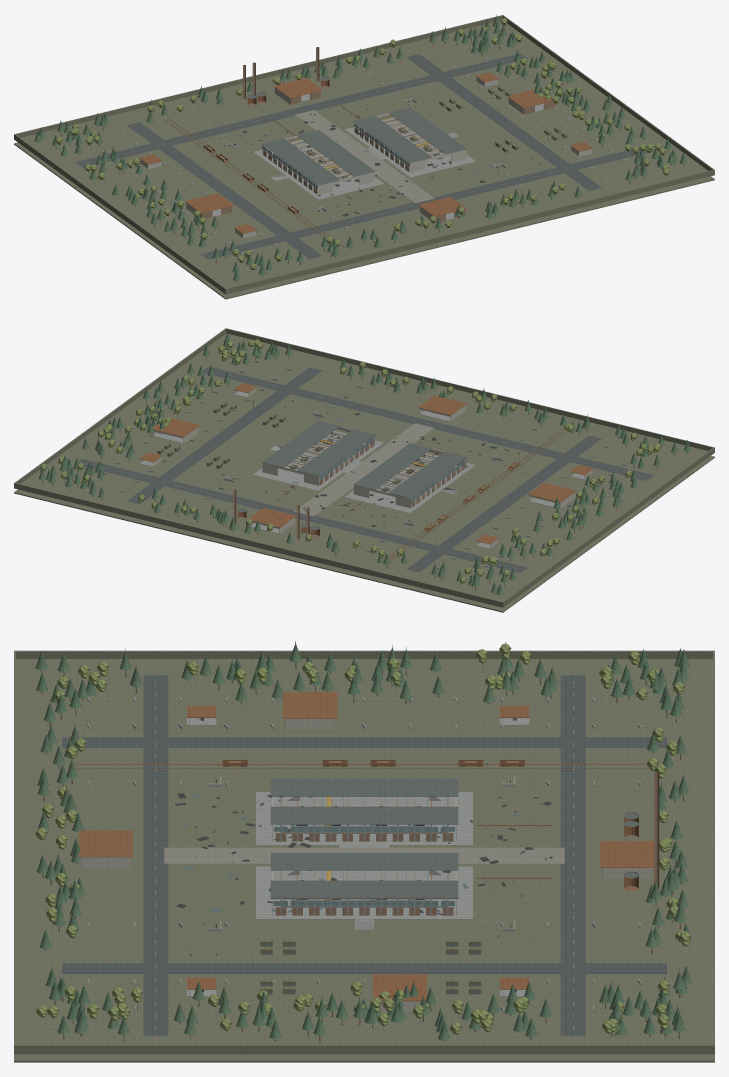
The picture shows the model from 3 angles, top to bottom: view 1: azimuth 30°, elevation 25°; view 2: azimuth 150°, elevation 25°; view 3: azimuth 270°, elevation 25°; orthographic projection. The views are drawn at different scales.
Visible parts, largest first — view 1: render-earth--4-0, render-earth-3-0, render-earth-0-1, render-earth-0--2, render-earth-0-0, render-asphalt-0--4, render-asphalt-0-3, render-earth-0-3, render-earth-0--4, render-asphalt--4-0, render-asphalt-4-0, render-gravel-0-0 (+13 smaller); view 2: render-earth--4-0, render-earth-3-0, render-earth-0--2, render-earth-0-1, render-earth-0-0, render-asphalt-0-3, render-asphalt-0--4, render-earth-0--4, render-earth-0-3, render-asphalt--4-0, render-asphalt-4-0, render-gravel-0-0 (+12 smaller); view 3: render-earth--4-0, render-earth-3-0, render-earth-0-1, render-earth-0--2, render-asphalt-0-3, render-asphalt-0--4, render-earth-4-0, render-asphalt-4-0, render-asphalt--4-0, render-earth-0-0, render-earth--5-0, render-concrete-1-0 (+23 smaller).
Boxes of the visible parts, left/top/right/bottom form: render-earth--4-0: left=14, top=102, right=378, bottom=294; render-earth-3-0: left=351, top=20, right=714, bottom=212; render-earth-0-1: left=280, top=140, right=561, bottom=256; render-earth-0--2: left=168, top=58, right=448, bottom=173; render-earth-0-0: left=14, top=142, right=714, bottom=299; render-asphalt-0--4: left=75, top=53, right=527, bottom=167; render-asphalt-0-3: left=201, top=145, right=653, bottom=259; render-earth-0-3: left=226, top=169, right=714, bottom=293; render-earth-0--4: left=14, top=15, right=503, bottom=137; render-asphalt--4-0: left=127, top=122, right=321, bottom=259; render-asphalt-4-0: left=406, top=54, right=601, bottom=190; render-gravel-0-0: left=294, top=110, right=434, bottom=203; render-earth--4-0: left=350, top=415, right=714, bottom=607; render-earth-3-0: left=14, top=333, right=377, bottom=525; render-earth-0--2: left=167, top=453, right=448, bottom=570; render-earth-0-1: left=281, top=370, right=560, bottom=486; render-earth-0-0: left=14, top=455, right=714, bottom=612; render-asphalt-0-3: left=203, top=366, right=653, bottom=480; render-asphalt-0--4: left=78, top=459, right=527, bottom=572; render-earth-0--4: left=14, top=483, right=502, bottom=606; render-earth-0-3: left=225, top=328, right=714, bottom=450; render-asphalt--4-0: left=406, top=435, right=601, bottom=572; render-asphalt-4-0: left=127, top=367, right=322, bottom=504; render-gravel-0-0: left=294, top=423, right=434, bottom=516; render-earth--4-0: left=16, top=659, right=712, bottom=781; render-earth-3-0: left=14, top=929, right=714, bottom=1054; render-earth-0-1: left=16, top=781, right=339, bottom=929; render-earth-0--2: left=389, top=781, right=712, bottom=929; render-asphalt-0-3: left=143, top=675, right=168, bottom=1035; render-asphalt-0--4: left=560, top=675, right=585, bottom=1035; render-earth-4-0: left=14, top=1044, right=714, bottom=1053; render-asphalt-4-0: left=62, top=963, right=666, bottom=973; render-asphalt--4-0: left=62, top=737, right=666, bottom=747; render-earth-0-0: left=14, top=1054, right=714, bottom=1062; render-earth--5-0: left=14, top=650, right=714, bottom=658; render-concrete-1-0: left=256, top=866, right=472, bottom=919.
Size of the model in its own units: 448 by 35 by 336.
19 materials, 19 textured.
